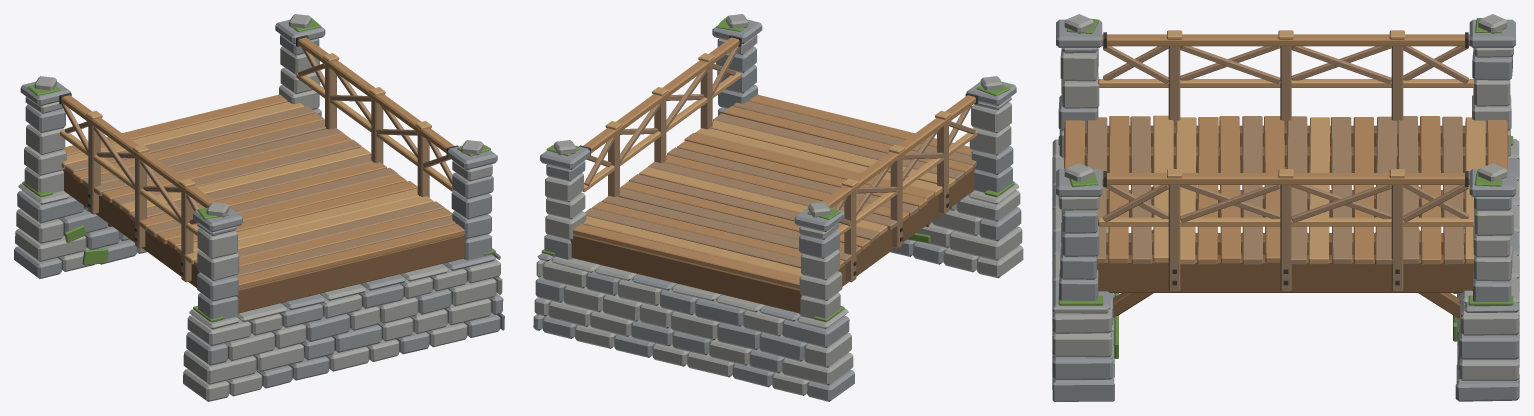
File: bridge.glb
3 views of the same model, side by side, from view 1: azimuth 30°, elevation 25°; view 2: azimuth 150°, elevation 25°; view 3: azimuth 270°, elevation 25° (orthographic). The views are drawn at different scales.
Parts seen in each view (by area): view 1: Deck, Abutments, Pillars, Railings, Frame, Moss; view 2: Deck, Abutments, Pillars, Railings, Frame, Moss; view 3: Deck, Railings, Pillars, Frame, Abutments, Moss, Ironwork.
Boxes of the visible parts, x1,y1,x2,y2 form: Deck: (61,94,464,288); Abutments: (14,183,504,401); Pillars: (20,14,497,322); Railings: (60,37,454,282); Frame: (63,169,466,313); Moss: (22,18,495,322); Deck: (573,94,976,288); Abutments: (533,183,1023,401); Pillars: (540,14,1016,321); Railings: (582,37,977,282); Frame: (570,168,974,313); Moss: (541,18,1015,322); Deck: (1064,115,1507,264); Railings: (1098,30,1473,291); Pillars: (1056,14,1515,306); Frame: (1064,125,1507,317); Abutments: (1052,139,1519,401); Moss: (1058,18,1513,358); Ironwork: (1103,32,1468,285).
Size of what is drawn, in the model's own units: 4.64 by 2.75 by 5.24.
